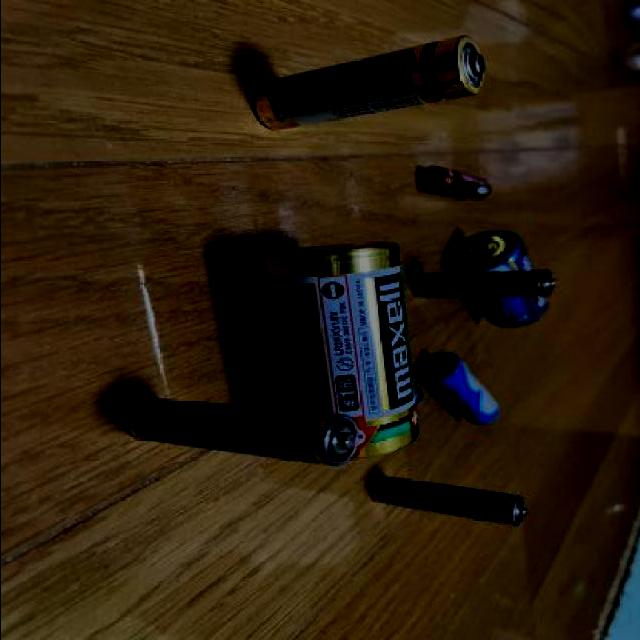AA: (249, 38, 489, 134), (414, 348, 502, 428)
AAA: (120, 392, 357, 470), (372, 476, 531, 530), (414, 164, 500, 202)
